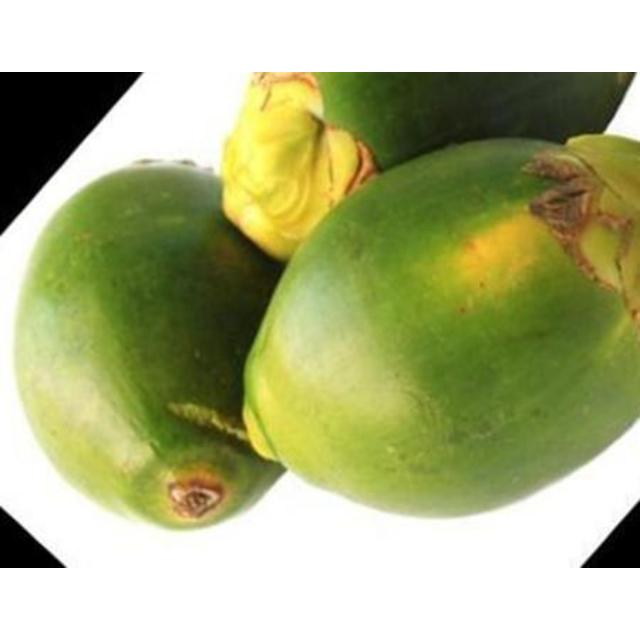good: (239, 135, 639, 523), (11, 164, 290, 534)
